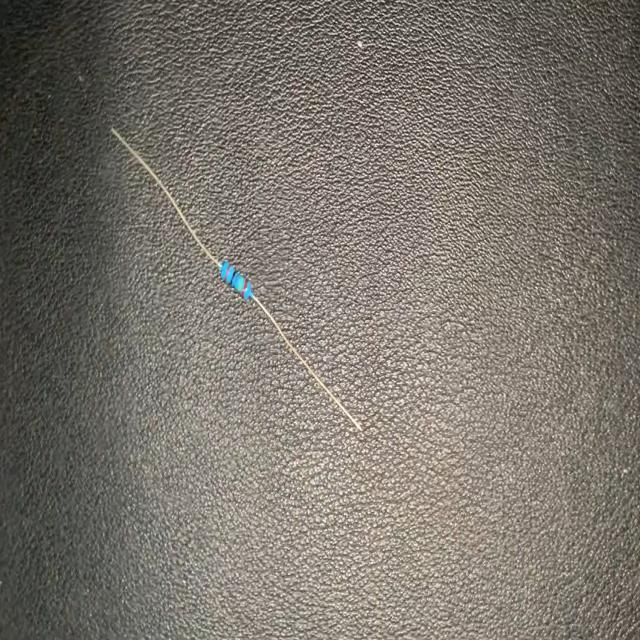resistor: (114, 130, 362, 429)
